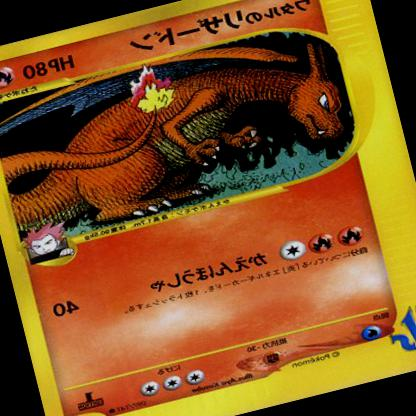Squirtle: (25, 28, 356, 237)
